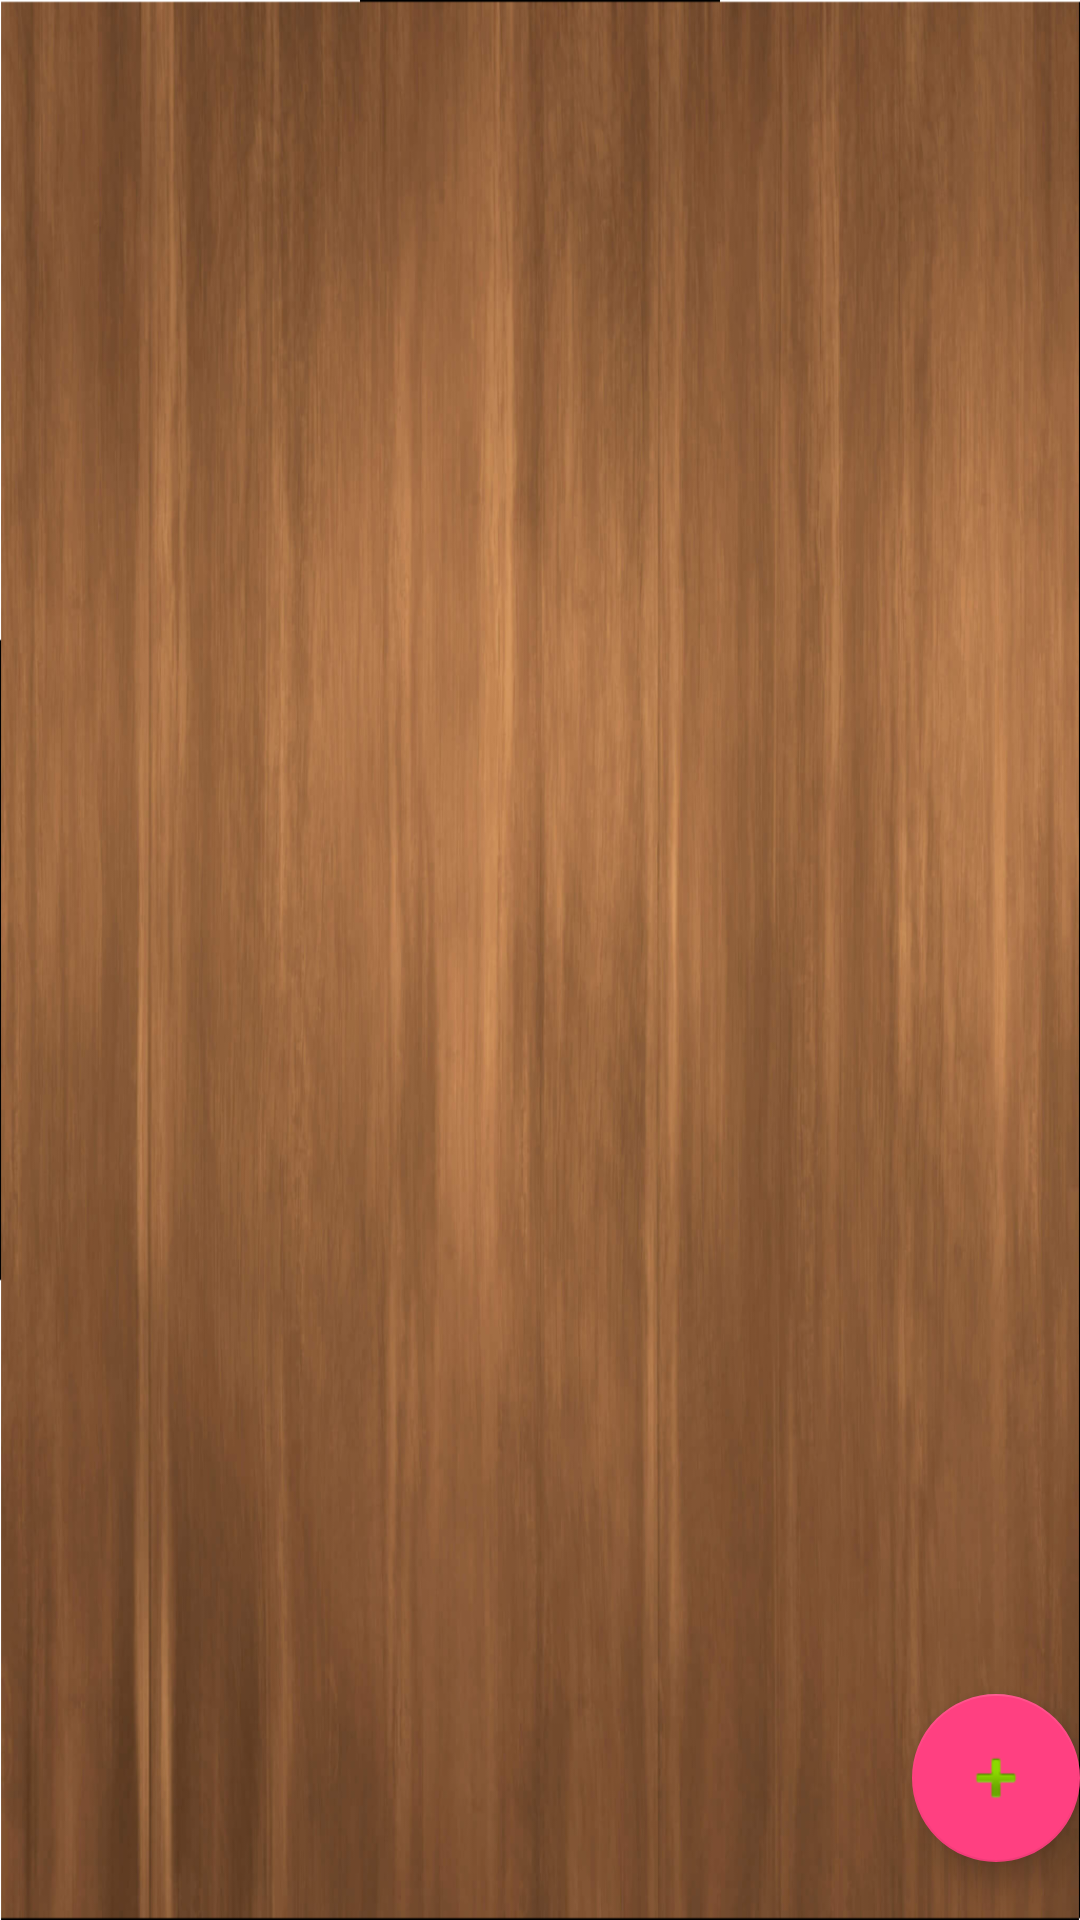

Where icons sit on this 1080×1920 app screen, as [x1, y1, x2, y2]:
add: [912, 1694, 1080, 1862]
